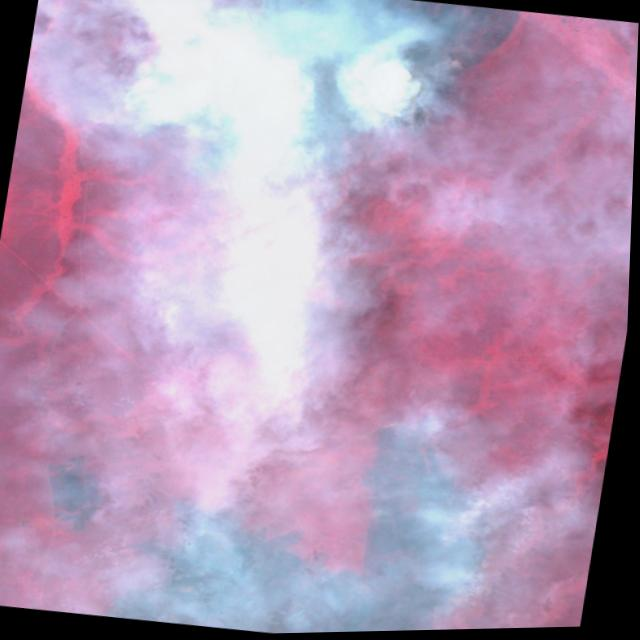fire: (84, 2, 487, 223)
